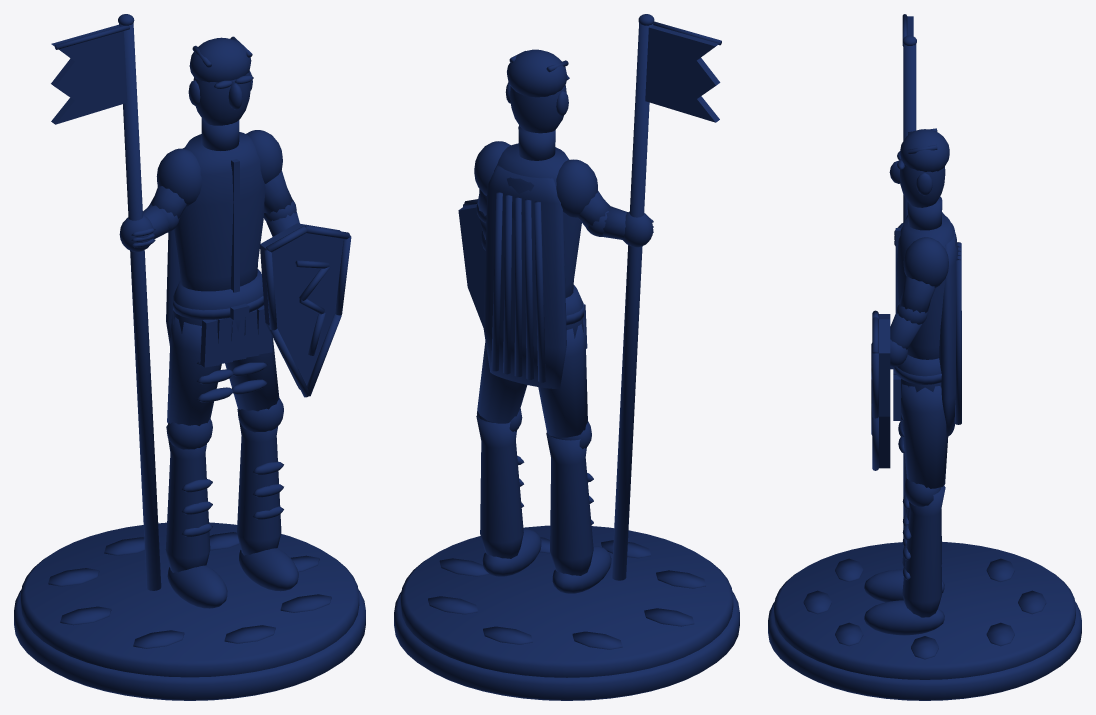
Rendered from knight-blue-level-3-bare.fbx.
3 views of the same model, side by side, from view 1: azimuth 30°, elevation 25°; view 2: azimuth 150°, elevation 25°; view 3: azimuth 270°, elevation 25° (orthographic). The views are drawn at different scales.
Parts seen in each view (by area): view 1: Knight_Level_3_Bare_Sculpt; view 2: Knight_Level_3_Bare_Sculpt; view 3: Knight_Level_3_Bare_Sculpt.
Boxes of the visible parts, left/top/right/bottom form: Knight_Level_3_Bare_Sculpt: left=14, top=14, right=365, bottom=700; Knight_Level_3_Bare_Sculpt: left=394, top=14, right=739, bottom=700; Knight_Level_3_Bare_Sculpt: left=768, top=14, right=1081, bottom=700.
Bounding box in the file's own units: 0.012 × 0.024 × 0.012.
